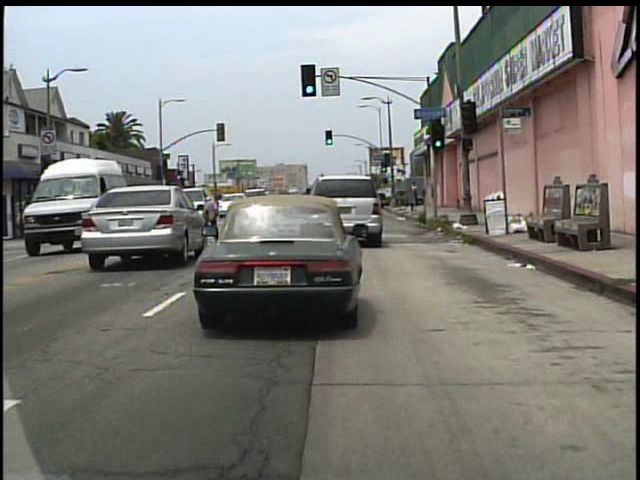person: (411, 180, 422, 207)
